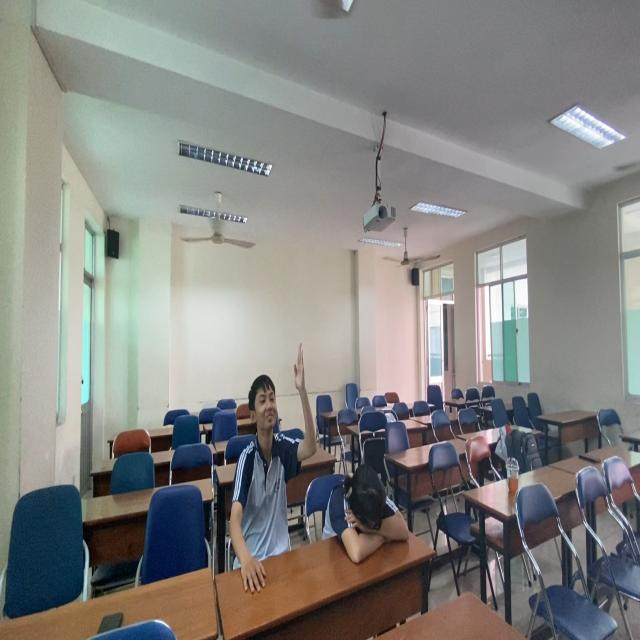raise_hand: (234, 344, 319, 613)
sleep: (323, 461, 415, 564)
